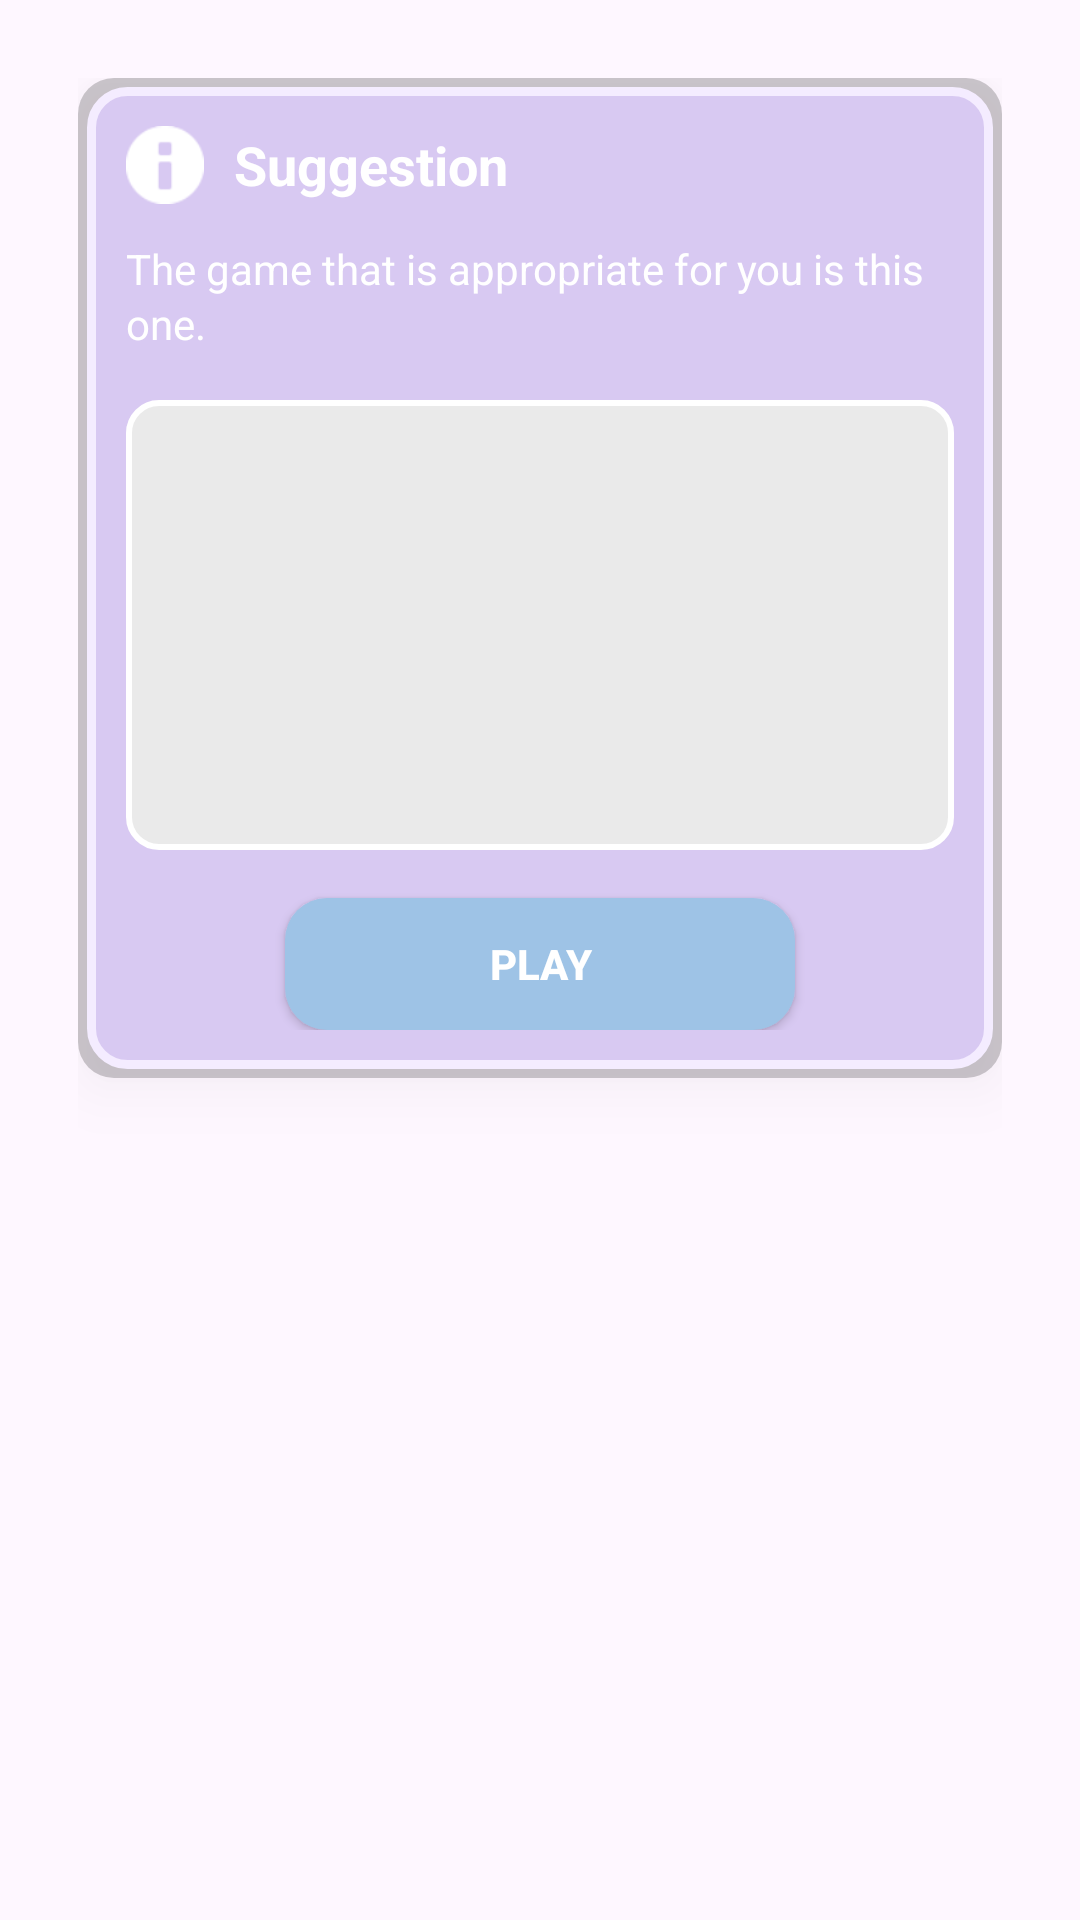

Icon click points for this 1080×1920 phone screenshot, format (x,y):
info: (165,165)
